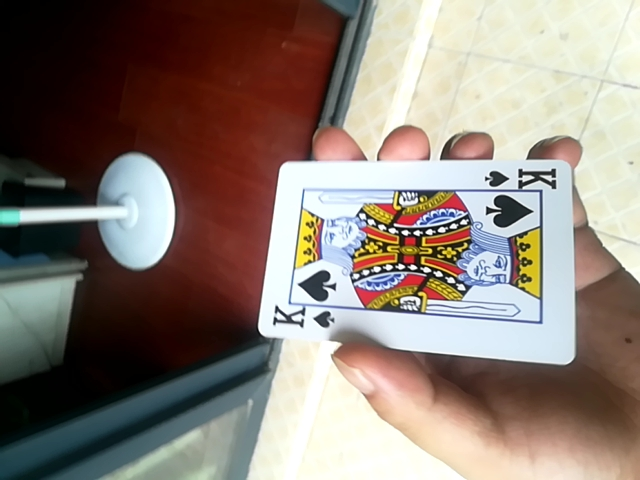ht k: (255, 162, 576, 359)
